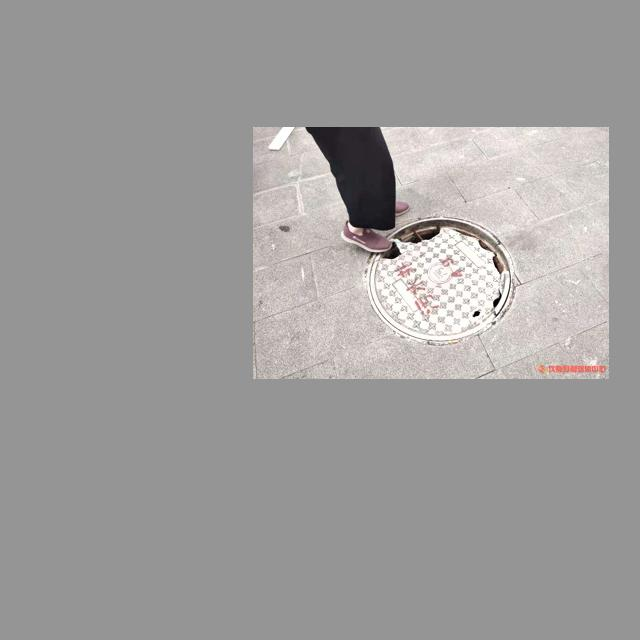broke: (360, 217, 523, 342)
